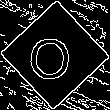O_N: (33, 29, 77, 81)
